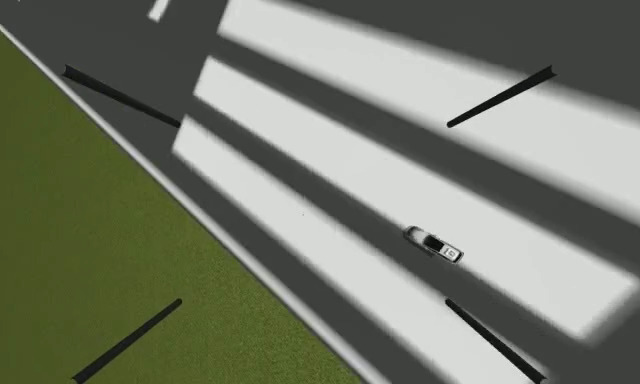Car: (403, 222, 466, 264)
